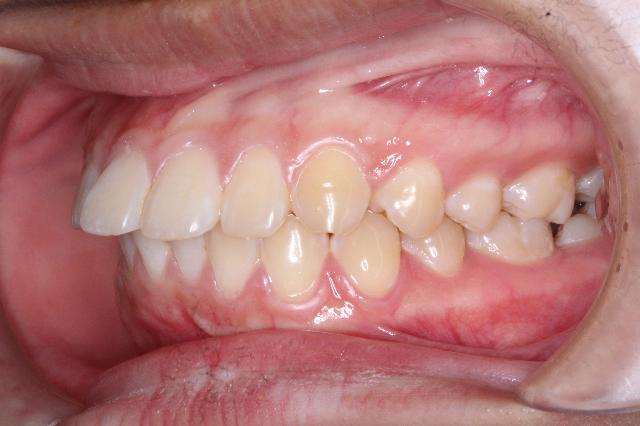canine class I: (258, 132, 402, 303)
molar class III 1/4: (464, 158, 578, 271)
